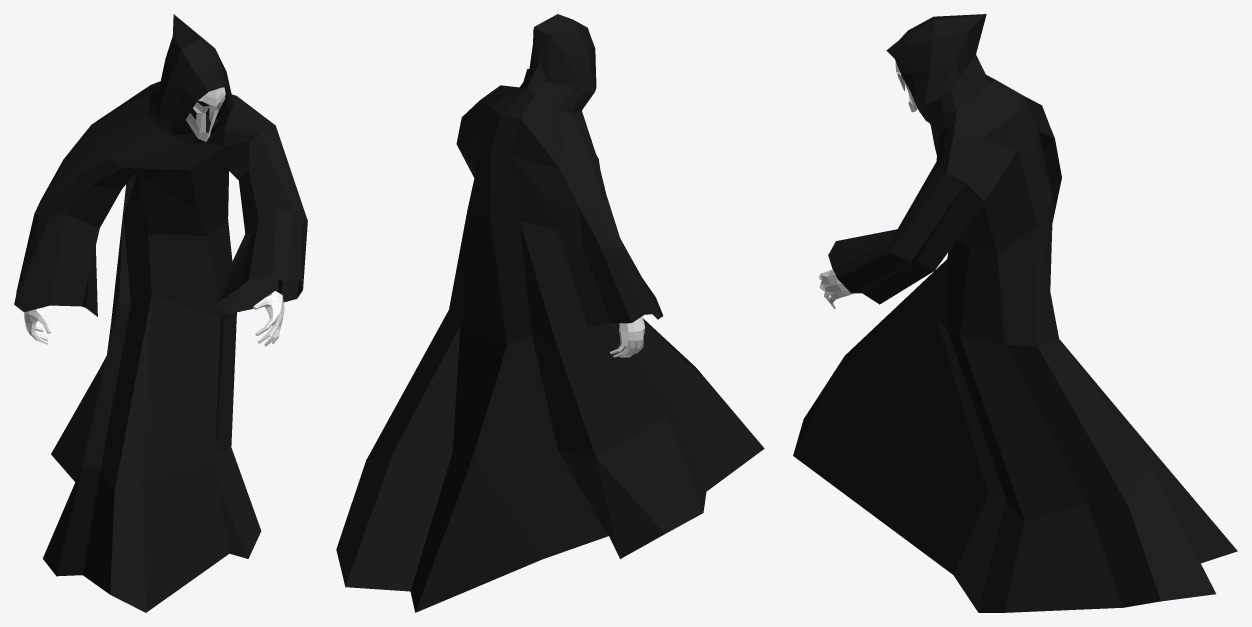
File: ReaperWalk(24).obj
The picture shows the model from 3 angles, left to right: view 1: azimuth 30°, elevation 25°; view 2: azimuth 150°, elevation 25°; view 3: azimuth 270°, elevation 25°; orthographic projection. The views are drawn at different scales.
Visible parts, largest first — view 1: Plane003; view 2: Plane003; view 3: Plane003.
Part boxes in pixels (x1=…): Plane003: x1=14, y1=14, x2=307, y2=612; Plane003: x1=336, y1=14, x2=764, y2=612; Plane003: x1=793, y1=14, x2=1237, y2=612.
Size of the model in its own units: 112 by 216 by 154.
